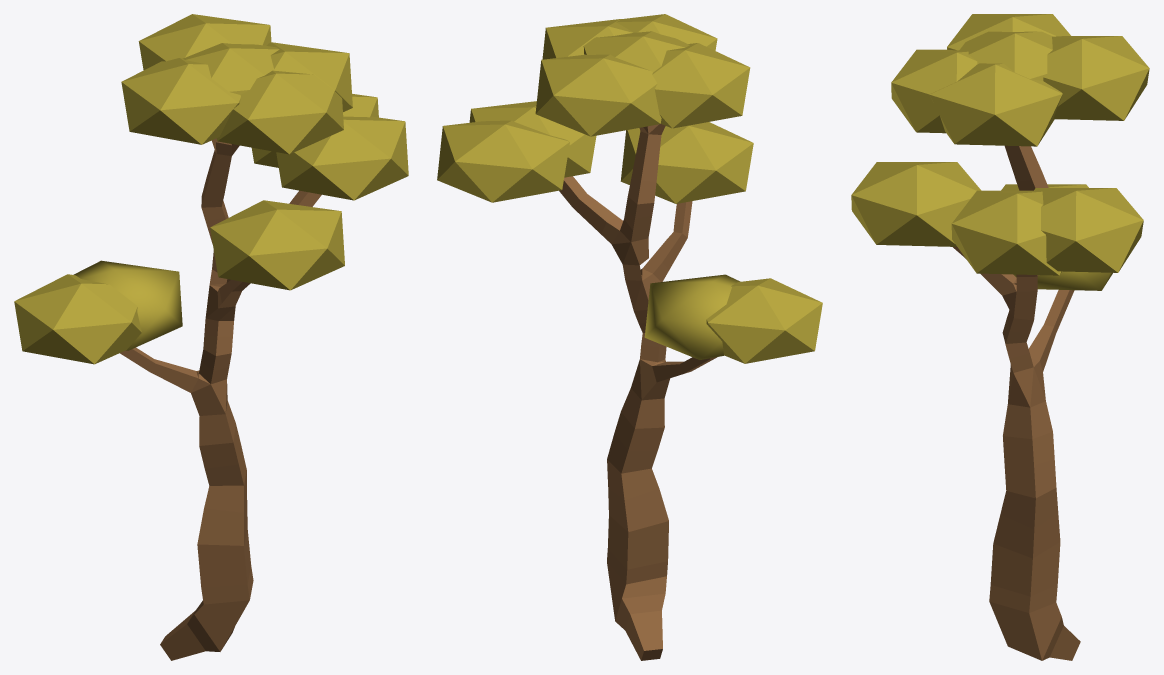
Rendered from Tree3_2.0.fbx.
3 views of the same model, side by side, from view 1: azimuth 30°, elevation 25°; view 2: azimuth 150°, elevation 25°; view 3: azimuth 270°, elevation 25° (orthographic). The views are drawn at different scales.
Visible parts, largest first — view 1: Cube, Icosphere.006, Icosphere, Icosphere.004, Icosphere.010, Icosphere.011, Icosphere.002, Icosphere.008, Icosphere.012, Icosphere.014, Icosphere.005; view 2: Cube, Icosphere.005, Icosphere.008, Icosphere, Icosphere.006, Icosphere.011, Icosphere.002, Icosphere.004, Icosphere.012, Icosphere.014, Icosphere.010; view 3: Cube, Icosphere.006, Icosphere.014, Icosphere.005, Icosphere.008, Icosphere.004, Icosphere.010, Icosphere.012, Icosphere.011, Icosphere.002.
Part boxes in pixels (<box>): Cube: <box>120,138,321,660</box>; Icosphere.006: <box>210,200,344,290</box>; Icosphere: <box>14,274,141,364</box>; Icosphere.004: <box>276,116,408,200</box>; Icosphere.010: <box>216,70,343,154</box>; Icosphere.011: <box>121,58,240,144</box>; Icosphere.002: <box>73,260,182,350</box>; Icosphere.008: <box>138,14,271,69</box>; Icosphere.012: <box>183,43,279,94</box>; Icosphere.014: <box>267,42,352,111</box>; Icosphere.005: <box>251,93,378,167</box>; Cube: <box>559,124,717,660</box>; Icosphere.005: <box>437,120,569,202</box>; Icosphere.008: <box>535,54,661,136</box>; Icosphere: <box>706,278,822,363</box>; Icosphere.006: <box>620,122,753,203</box>; Icosphere.011: <box>652,43,750,128</box>; Icosphere.002: <box>644,274,740,359</box>; Icosphere.004: <box>469,101,596,177</box>; Icosphere.012: <box>583,31,689,72</box>; Icosphere.014: <box>542,19,633,59</box>; Icosphere.010: <box>616,14,717,50</box>; Cube: <box>953,145,1080,660</box>; Icosphere.006: <box>851,162,981,246</box>; Icosphere.014: <box>929,63,1062,146</box>; Icosphere.005: <box>1034,188,1143,272</box>; Icosphere.008: <box>1043,36,1149,120</box>; Icosphere.004: <box>951,190,1061,275</box>; Icosphere.010: <box>891,49,977,133</box>; Icosphere.012: <box>959,31,1052,80</box>; Icosphere.011: <box>947,14,1070,50</box>; Icosphere.002: <box>1013,271,1112,290</box>.
Size of the model in its own units: 1049 by 1677 by 708.
